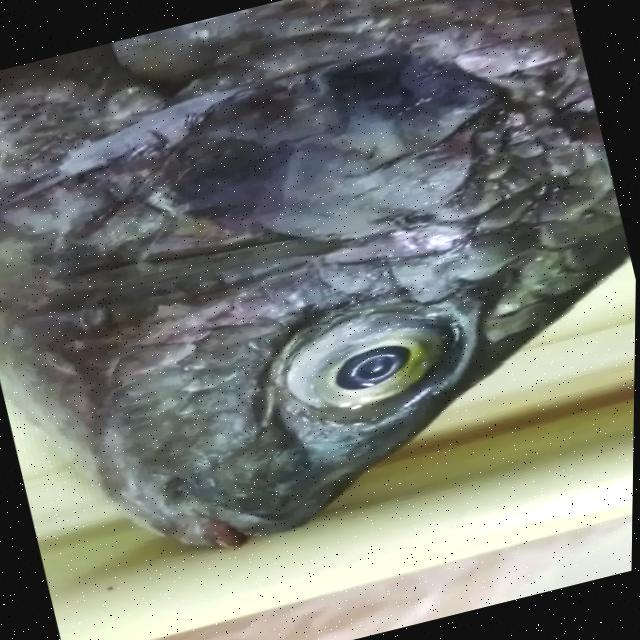Non-Fresh: (209, 232, 539, 484)
